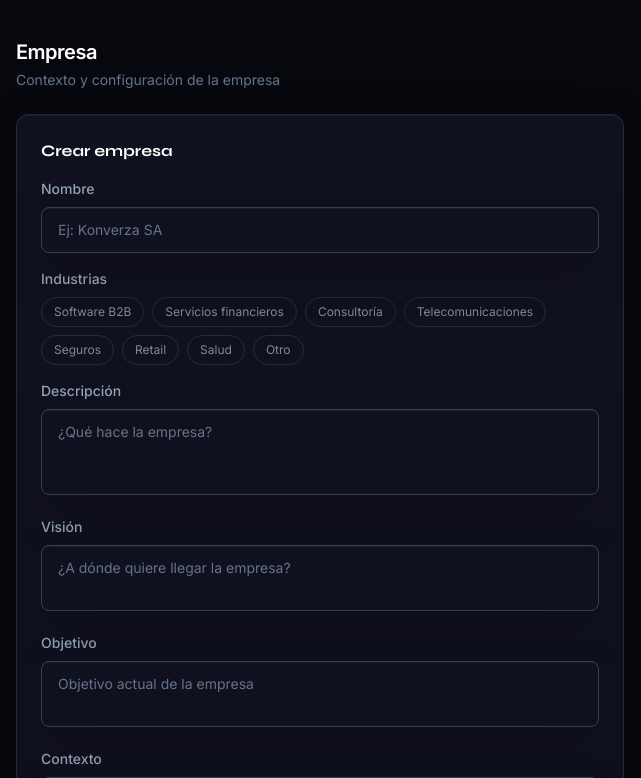
Test: CompanyScreen › rejects submission with no industry selected
This screenshot has width=641, height=778.
expect the heading "Crear empresa" is shown: met, box [41,141,173,160]
Type "Konverza SA" into the field labelled "Nombre".
click(320, 230); type("Konverza SA")  # box [41,207,599,253]
(page scrolled)
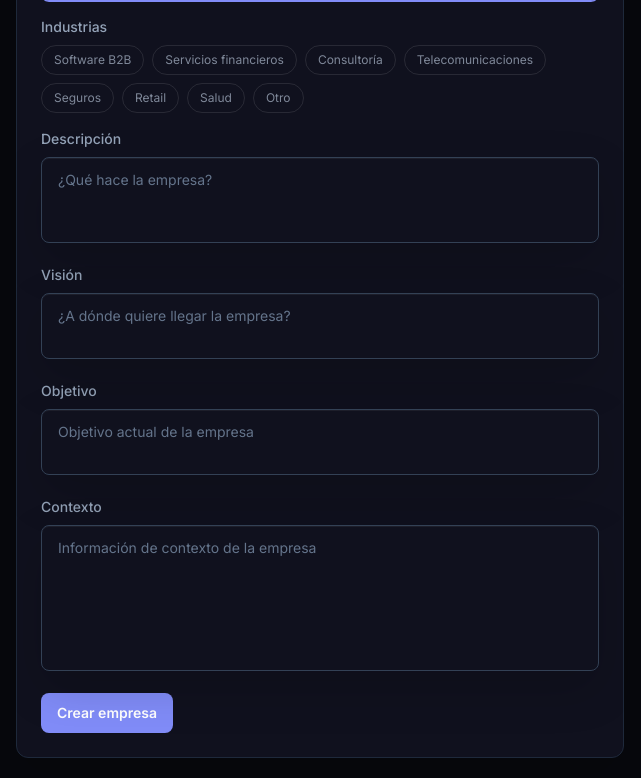
Click the button "Crear empresa".
click(107, 713)  # box [41,693,173,733]
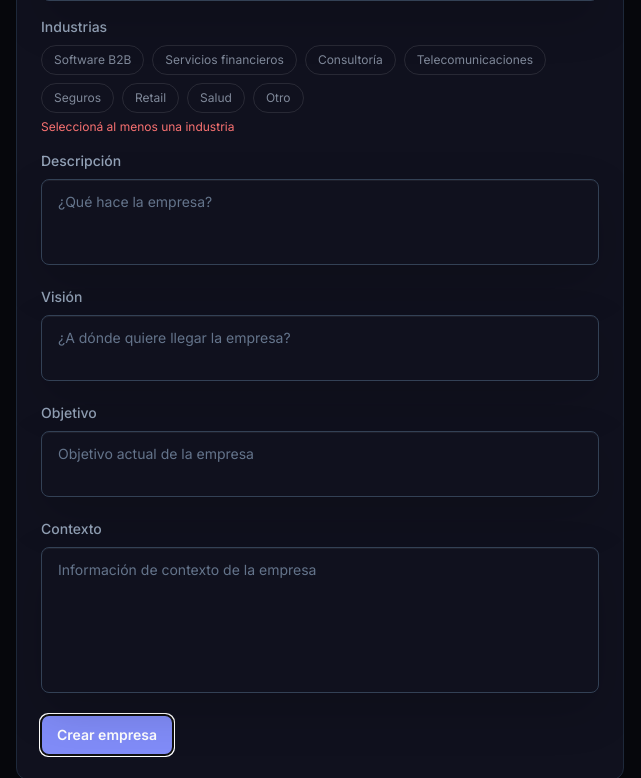
expect the text "Seleccioná al menos una industria" is shown: met, box [41,119,234,134]
